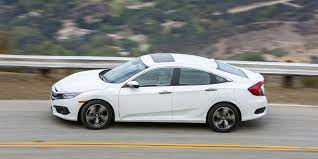car: (48, 52, 267, 130)
